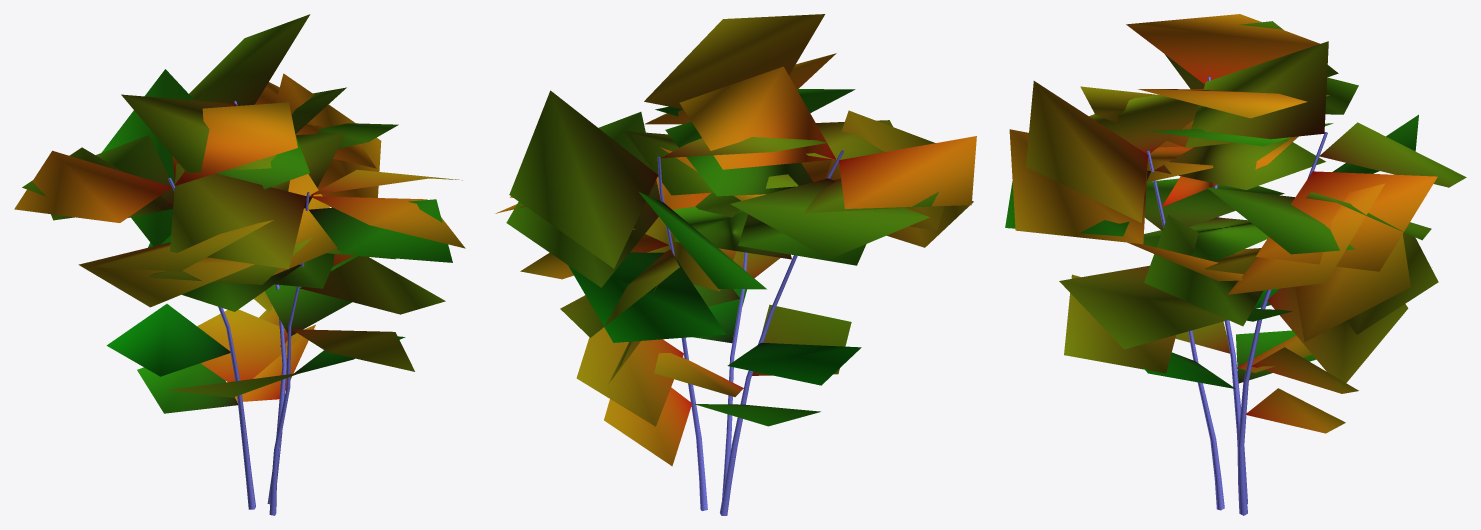
The model's file is tree_Shrub_Birch_LOD1.fbx.
The picture shows the model from 3 angles, left to right: view 1: azimuth 30°, elevation 25°; view 2: azimuth 150°, elevation 25°; view 3: azimuth 270°, elevation 25°; orthographic projection. The views are drawn at different scales.
Parts seen in each view (by area): view 1: Shrub_Birch_LOD1; view 2: Shrub_Birch_LOD1; view 3: Shrub_Birch_LOD1.
Part boxes in pixels (left/top/right/bottom): Shrub_Birch_LOD1: left=14, top=14, right=465, bottom=515; Shrub_Birch_LOD1: left=495, top=14, right=976, bottom=515; Shrub_Birch_LOD1: left=1005, top=14, right=1466, bottom=515.
Bounding box in the file's own units: 634 × 630 × 600.
